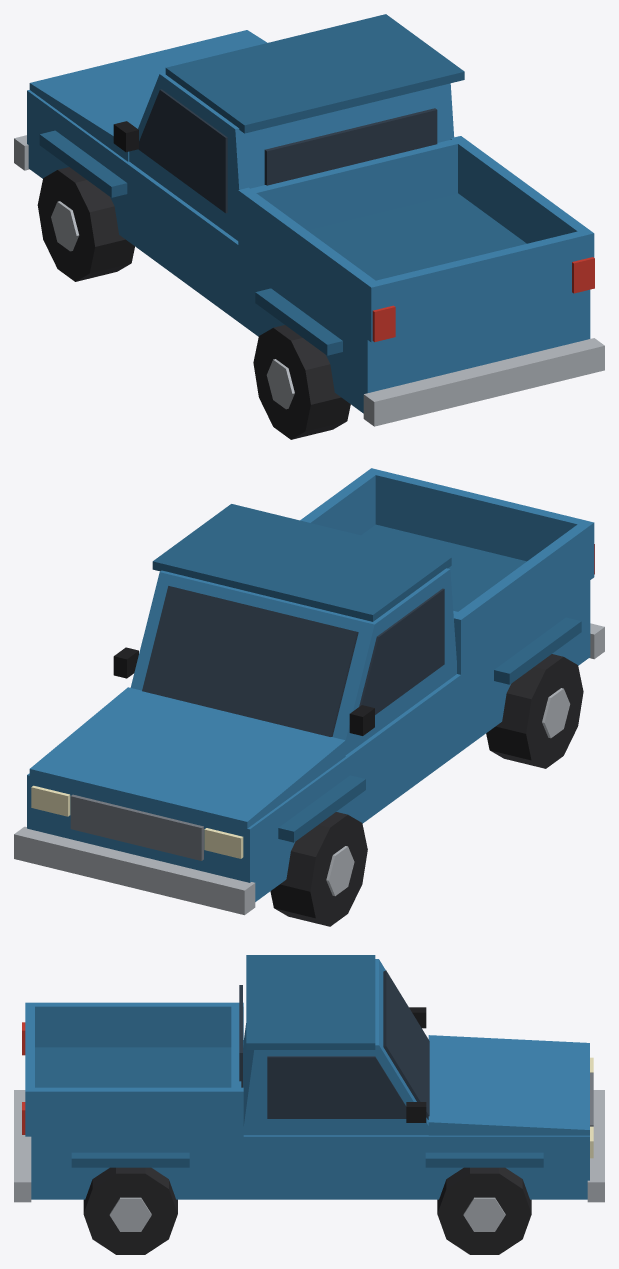
File: vehicle_pickup_light.glb
3 renders of one model, top to bottom at view 1: azimuth 30°, elevation 25°; view 2: azimuth 150°, elevation 25°; view 3: azimuth 270°, elevation 25°, orthographic. The views are drawn at different scales.
Visible parts, largest first — view 1: vehicle_pickup_light.001; view 2: vehicle_pickup_light.001; view 3: vehicle_pickup_light.001.
Part boxes in pixels (bbox=[...]): vehicle_pickup_light.001: bbox=[14, 14, 604, 439]; vehicle_pickup_light.001: bbox=[14, 468, 604, 926]; vehicle_pickup_light.001: bbox=[14, 955, 604, 1254].
Bounding box in the file's own units: 2.12 × 1.81 × 4.76.
1 material, 1 textured.
